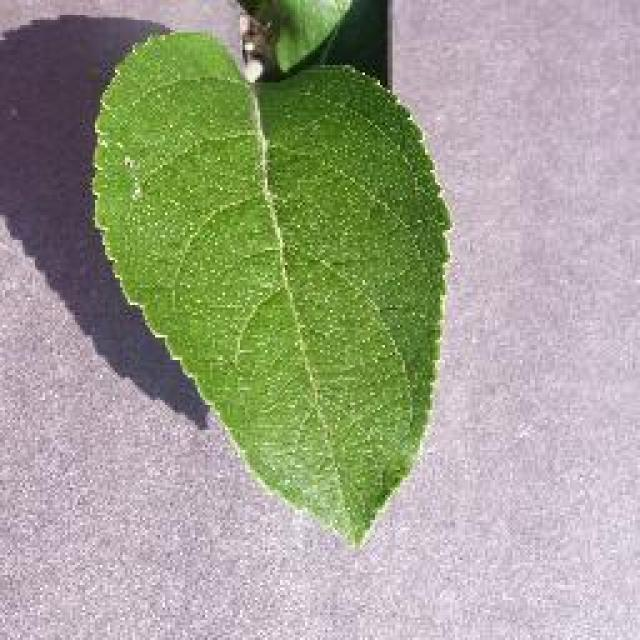apple healthy: (88, 22, 452, 550)
